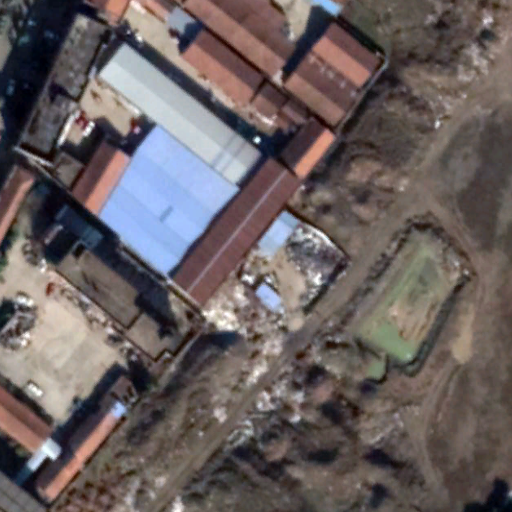msw: (200, 221, 343, 379)
